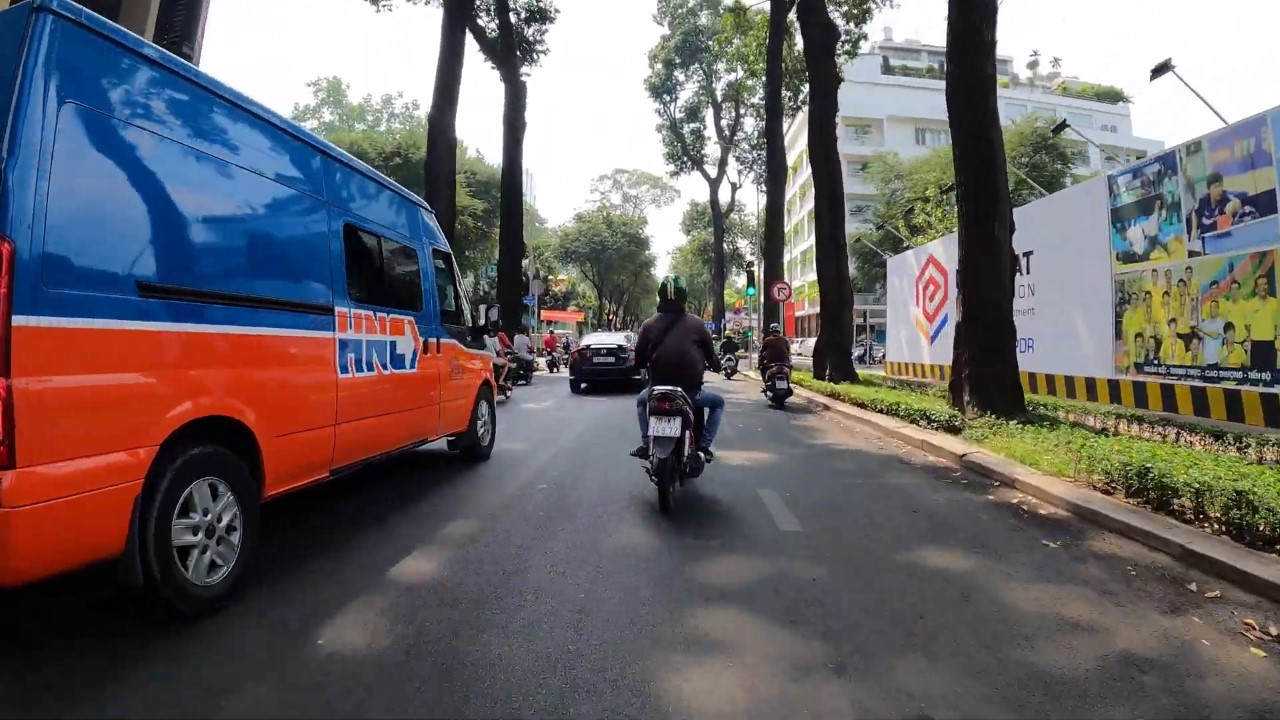cam_do_xe: (733, 307, 743, 317)
cam_re_phai: (771, 280, 793, 303)
